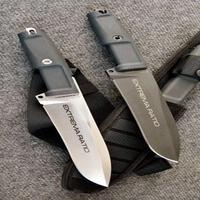knife: (83, 5, 194, 163), (14, 27, 113, 197)
